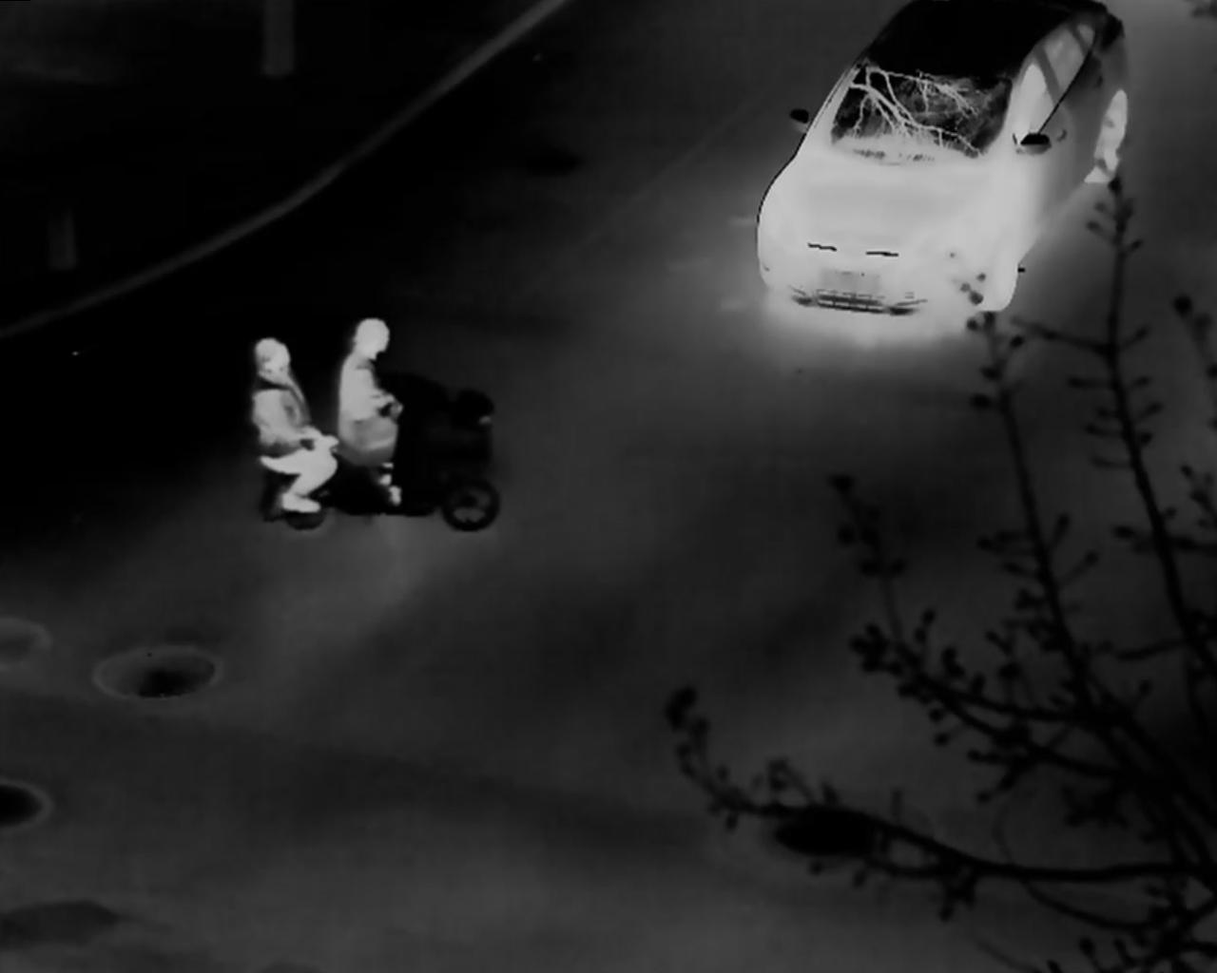person: (251, 338, 338, 514), (337, 316, 400, 468)
